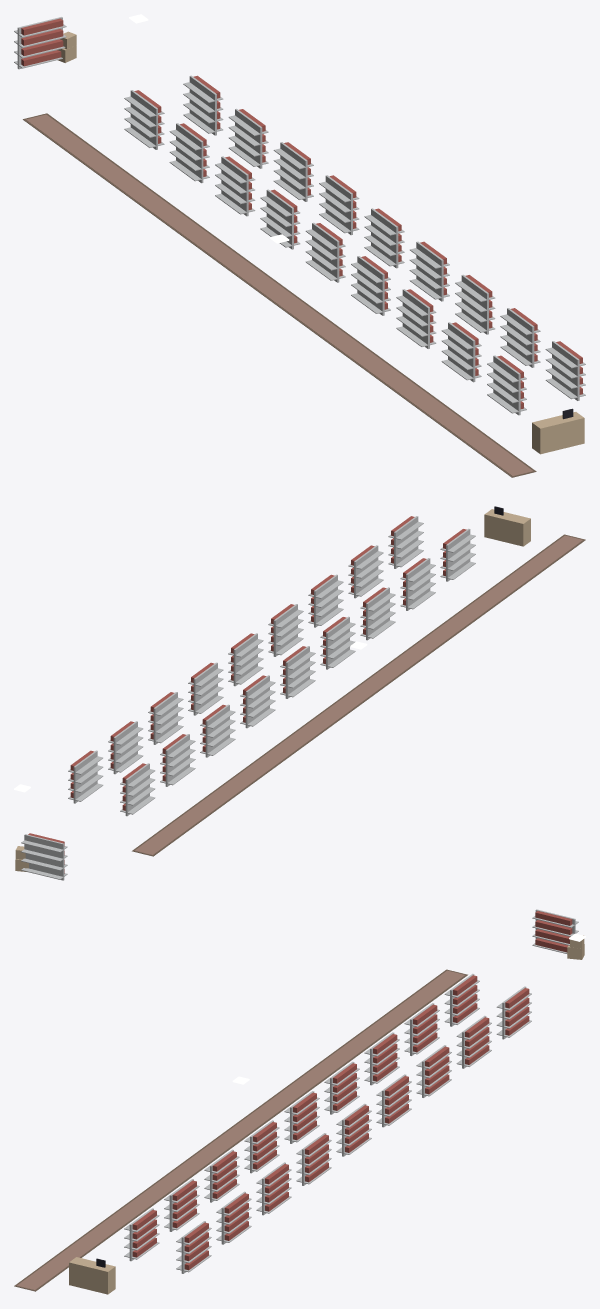
Rendered from fine-s0.glb.
The picture shows the model from 3 angles, top to bottom: view 1: azimuth 30°, elevation 25°; view 2: azimuth 150°, elevation 25°; view 3: azimuth 330°, elevation 25°; orthographic projection. The views are drawn at different scales.
Parts seen in each view (by area): view 1: soft-s0, shelving.000, shop-counter.000, shelf.006, shelf.009, shelf.015, shelf.012, shelf.000, shelf.013, shelf.014, shelf.002, shelf.004 (+9 smaller); view 2: soft-s0, shelving.000, shop-counter.000, shelf.000, shelf.002, shelf.009, shelf.010, shelf.016, shelf.008, shelf.001, shelf.007, shelf.017 (+9 smaller); view 3: soft-s0, shelving.000, shop-counter.000, shelf.002, shelf.011, shelf.001, shelf.010, shelf.000, shelf.008, shelf.009, shelf.016, shelf.017 (+9 smaller).
Boxes of the visible parts, left/top/right/bottom form: soft-s0: left=23, top=113, right=536, bottom=477; shelving.000: left=14, top=17, right=66, bottom=69; shop-counter.000: left=532, top=408, right=584, bottom=454; shelf.006: left=396, top=289, right=436, bottom=348; shelf.009: left=183, top=75, right=223, bottom=135; shelf.015: left=455, top=274, right=495, bottom=334; shelf.012: left=319, top=175, right=359, bottom=235; shelf.000: left=124, top=90, right=164, bottom=149; shelf.013: left=364, top=208, right=404, bottom=268; shelf.014: left=409, top=241, right=449, bottom=301; shelf.002: left=215, top=156, right=255, bottom=216; shelf.004: left=305, top=222, right=345, bottom=282; soft-s0: left=132, top=534, right=585, bottom=856; shelving.000: left=21, top=833, right=67, bottom=880; shop-counter.000: left=484, top=506, right=530, bottom=546; shelf.000: left=120, top=763, right=155, bottom=816; shelf.002: left=200, top=704, right=235, bottom=757; shelf.009: left=68, top=750, right=103, bottom=803; shelf.010: left=108, top=721, right=143, bottom=774; shelf.016: left=348, top=545, right=383, bottom=598; shelf.008: left=440, top=528, right=475, bottom=581; shelf.001: left=160, top=734, right=195, bottom=786; shelf.007: left=400, top=558, right=435, bottom=610; shelf.017: left=388, top=516, right=423, bottom=568; soft-s0: left=14, top=969, right=467, bottom=1291; shelving.000: left=532, top=909, right=578, bottom=953; shop-counter.000: left=69, top=1257, right=115, bottom=1294; shelf.002: left=364, top=1032, right=399, bottom=1085; shelf.011: left=416, top=1045, right=451, bottom=1097; shelf.001: left=404, top=1003, right=439, bottom=1055; shelf.010: left=456, top=1015, right=491, bottom=1068; shelf.000: left=444, top=973, right=479, bottom=1026; shelf.008: left=124, top=1208, right=159, bottom=1261; shelf.009: left=496, top=986, right=531, bottom=1039; shelf.016: left=216, top=1191, right=251, bottom=1244; shelf.017: left=176, top=1221, right=211, bottom=1273.
Bounding box in the file's own units: 5.64 × 2.24 × 38.59.
